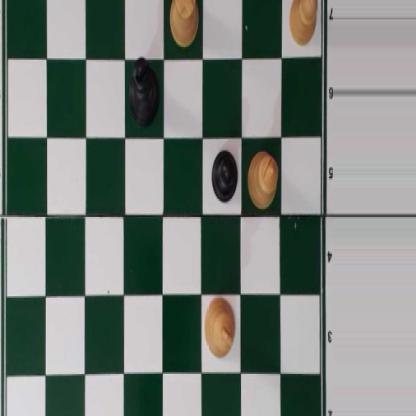black-king: (128, 57, 161, 126)
black-pawn: (210, 147, 238, 202)
white-bishop: (247, 149, 278, 209)
white-king: (202, 293, 236, 359)
white-pawn: (289, 0, 318, 45)
white-rook: (168, 0, 198, 44)
